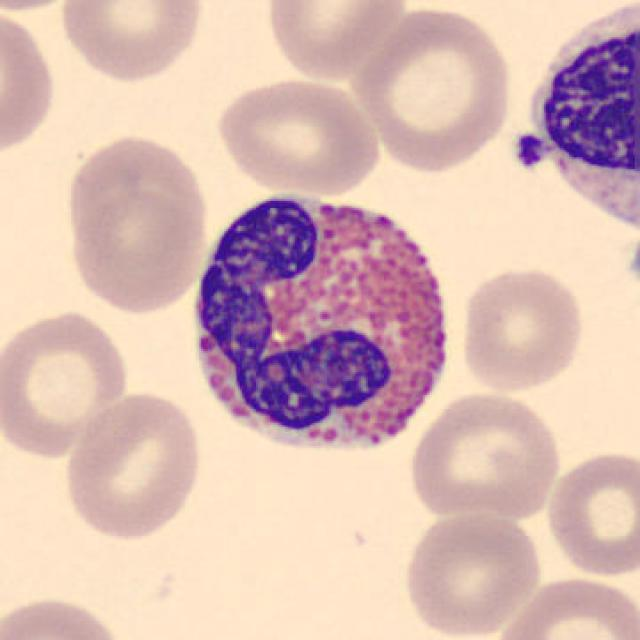Eosinophil: (180, 173, 466, 474)
Monocyte: (505, 0, 640, 254)
Platelets: (510, 130, 550, 172), (624, 231, 640, 296)
RBC: (348, 3, 518, 175), (60, 129, 212, 317), (59, 388, 206, 543), (212, 72, 384, 196), (406, 388, 564, 522), (0, 305, 133, 460), (398, 506, 546, 640), (455, 263, 589, 395), (540, 444, 638, 580), (55, 0, 208, 85), (261, 0, 411, 83), (490, 573, 640, 640), (0, 5, 60, 160), (0, 590, 130, 640), (0, 0, 92, 14)
